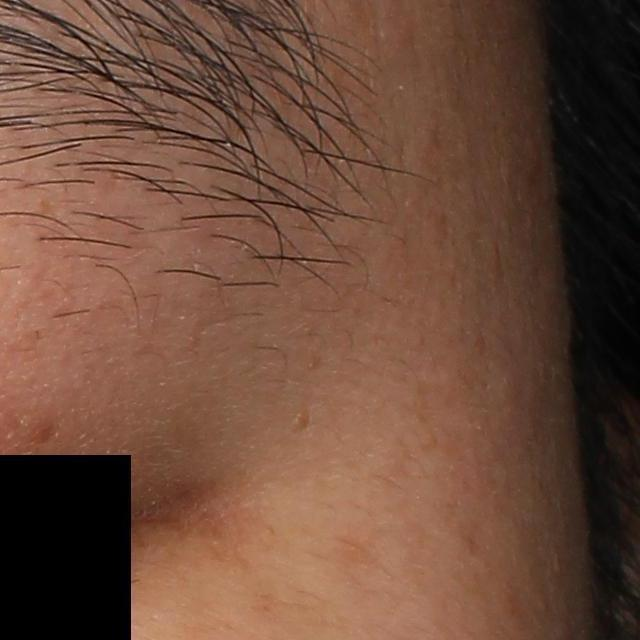melasma: (326, 533, 387, 583), (23, 413, 61, 453)
